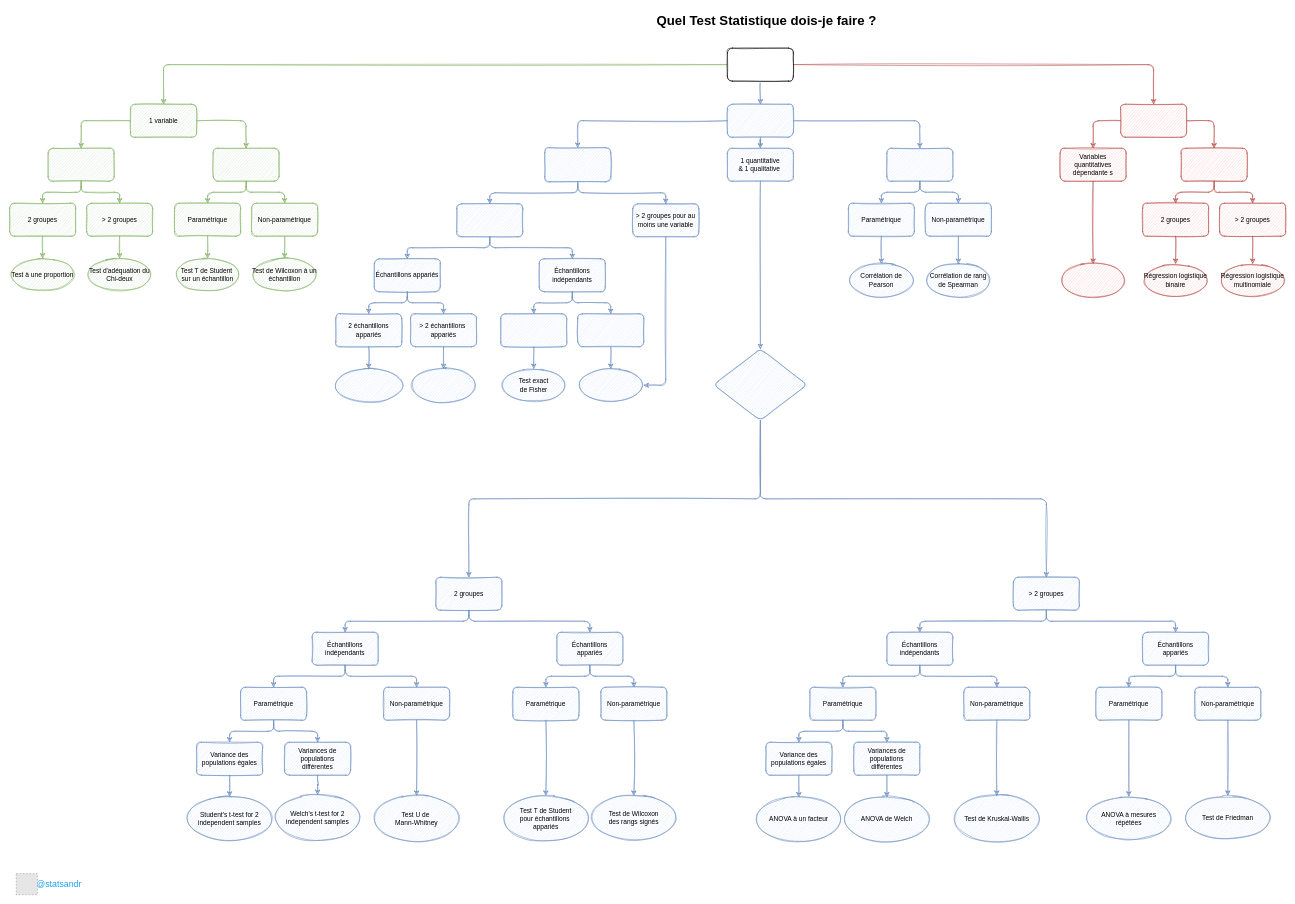
This 1295x904 diagram has some shape labels left out. Grey dashed boxes stand in for pictures. Each missing label, with the box of its shape:
2 groupes pour chaque variable: (456, 203, 523, 237)
2 qualitative: (544, 147, 611, 182)
2 quantitatives: (886, 148, 953, 181)
2 variables: (727, 104, 793, 137)
> 2 variables: (1120, 104, 1187, 137)
Combien de Variables?: (727, 48, 793, 81)
Fréquences attendues < 5: (500, 313, 567, 347)
Fréquences attendues >= 5: (577, 313, 644, 347)
Nombre de groupes/échantillons à comparer ?: (713, 348, 807, 420)
Qualitative: (48, 148, 114, 181)
Quantitative: (213, 148, 279, 181)
Régression linéaire multiple: (1060, 263, 1126, 297)
Test de McNemar: (335, 368, 402, 402)
Test du Chi-deux d'indépendance: (577, 368, 644, 402)
Test Q de Cochran: (410, 368, 477, 402)
Variables qualitatives dépendantes: (1181, 148, 1247, 181)
